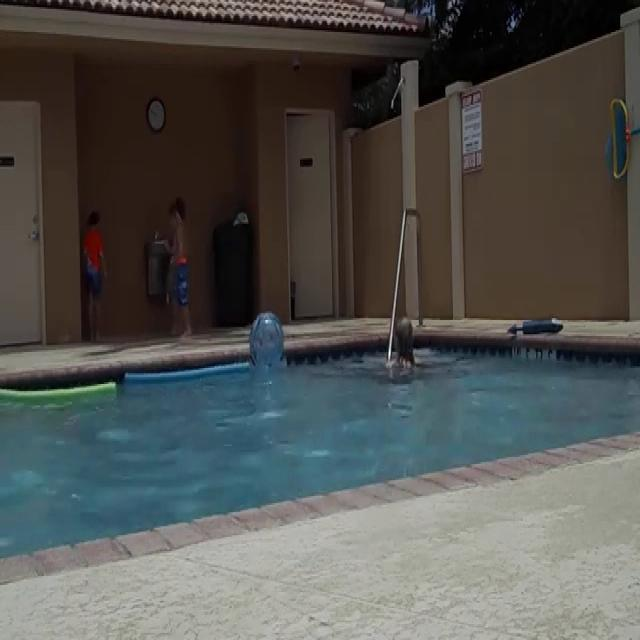adult: (383, 316, 416, 405), (166, 202, 182, 324)
child: (81, 210, 106, 346), (170, 197, 192, 341)
